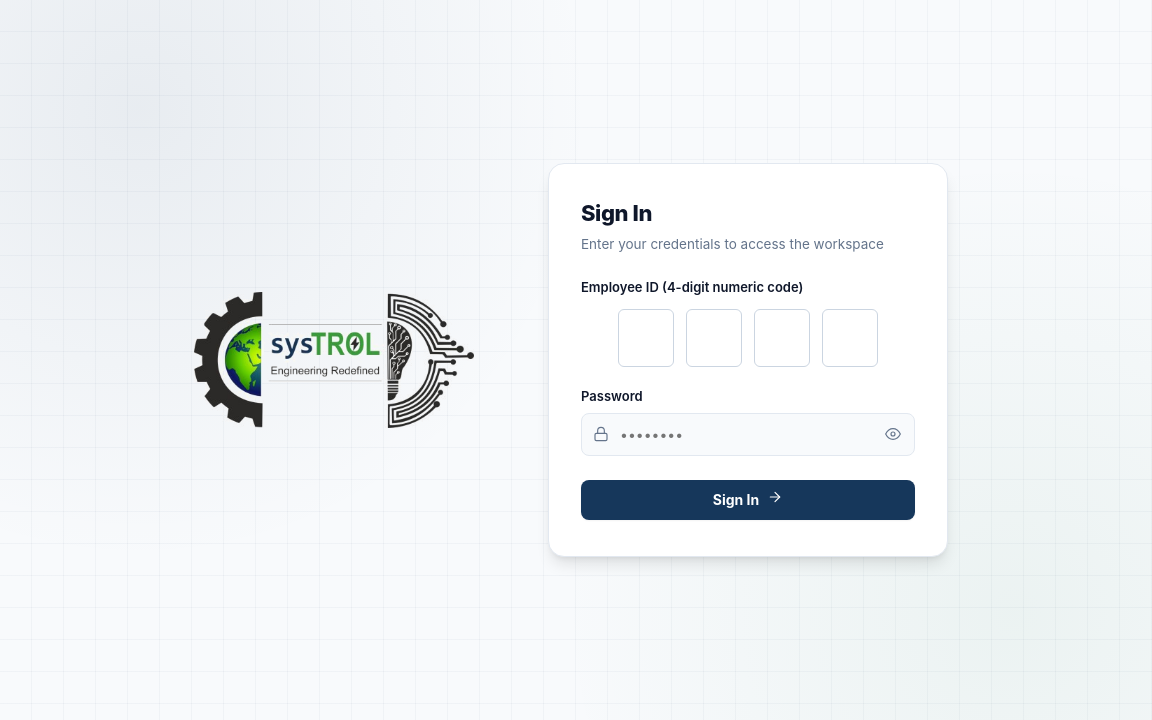
Test: LoginPage › displays generic error banner when credentials are invalid
Type "0" into the field with test id "employee-code-digit-0" at (646, 338), box [618,309,674,367]
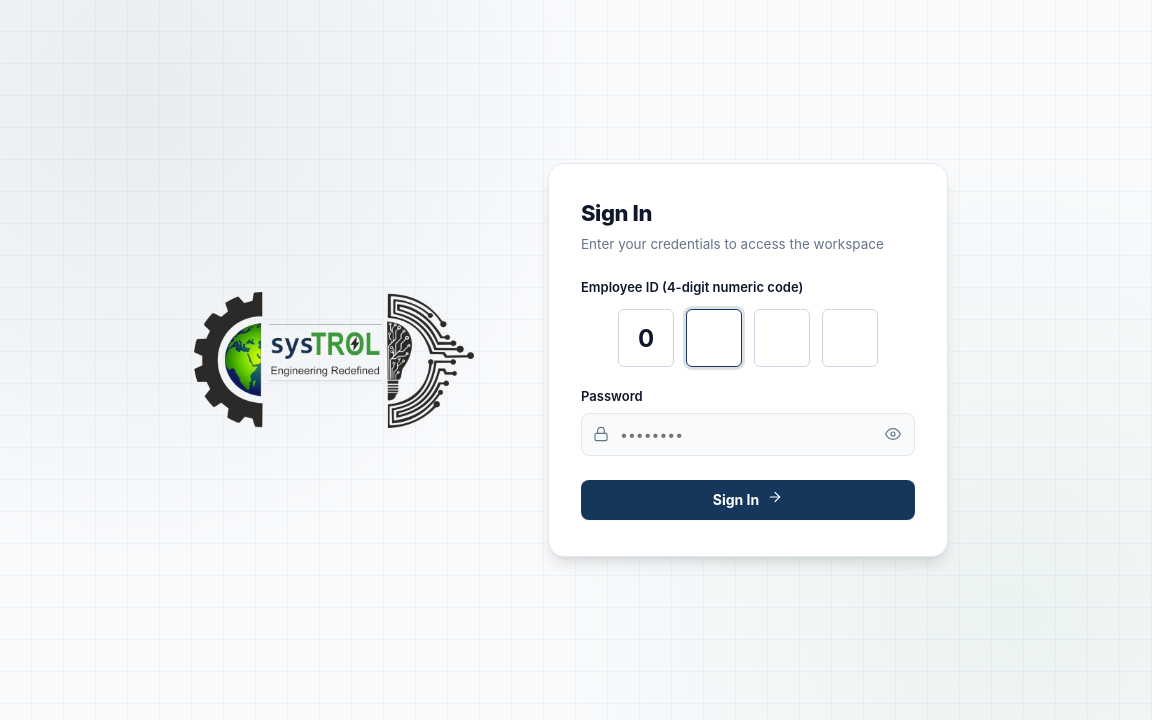
Type "0" into the field named "Digit 2" at (714, 338), box [686,309,742,367]
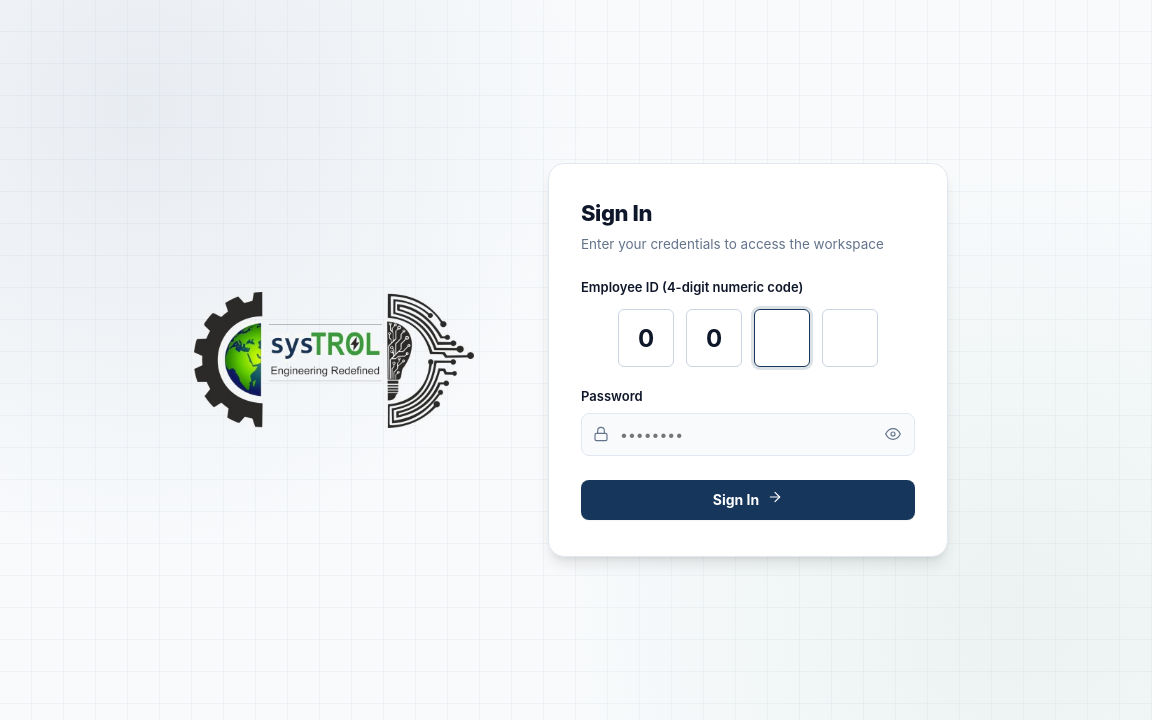
Type "0" into the field named "Digit 3" at (782, 338), box [754,309,810,367]
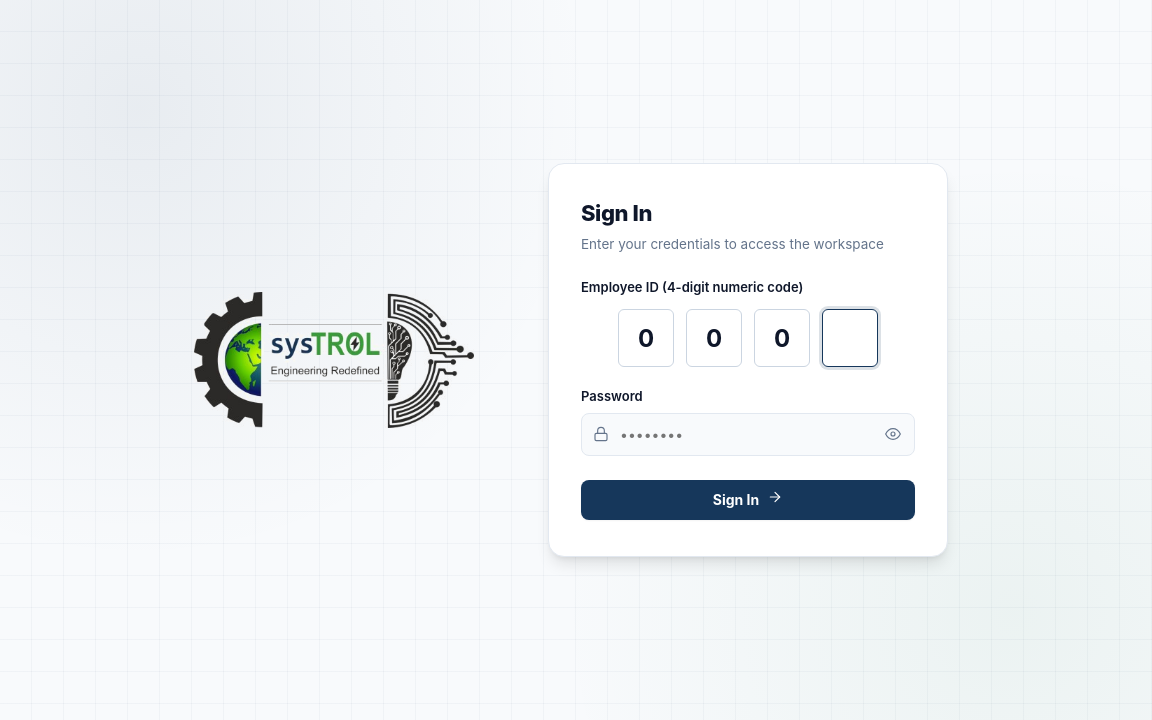
Type "1" into the field named "Digit 4" at (850, 338), box [822,309,878,367]
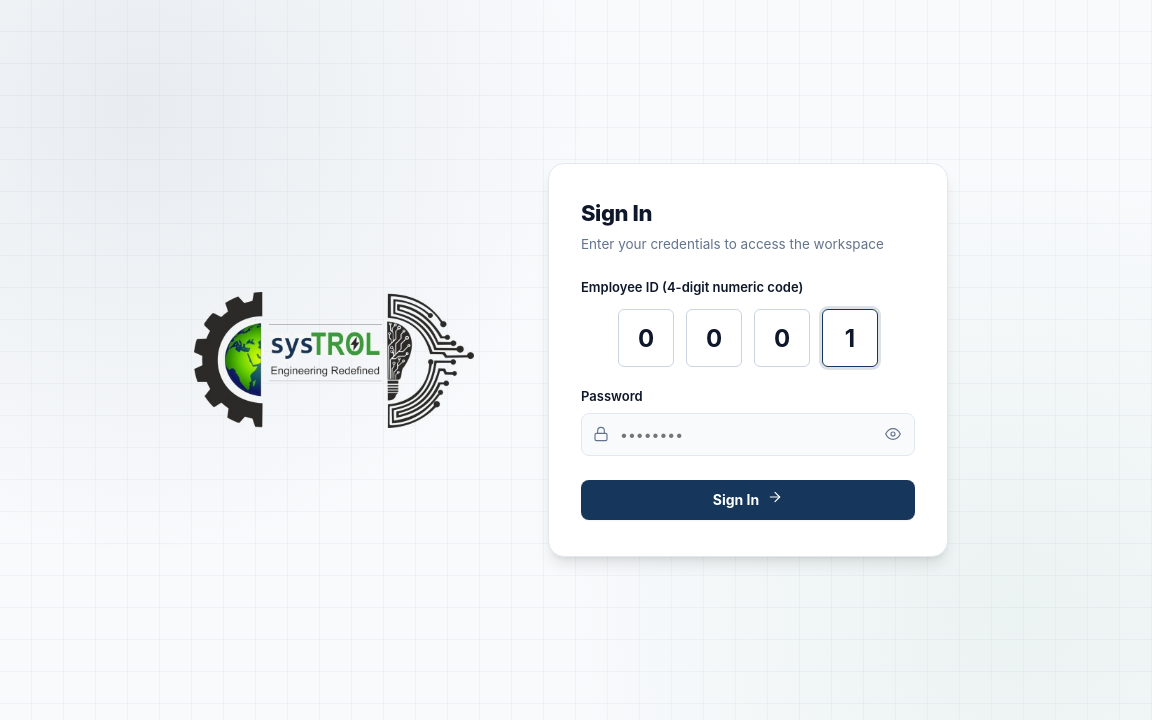
Type "badpass" into the password field labelled "Password" at (748, 434), box [581,413,915,456]
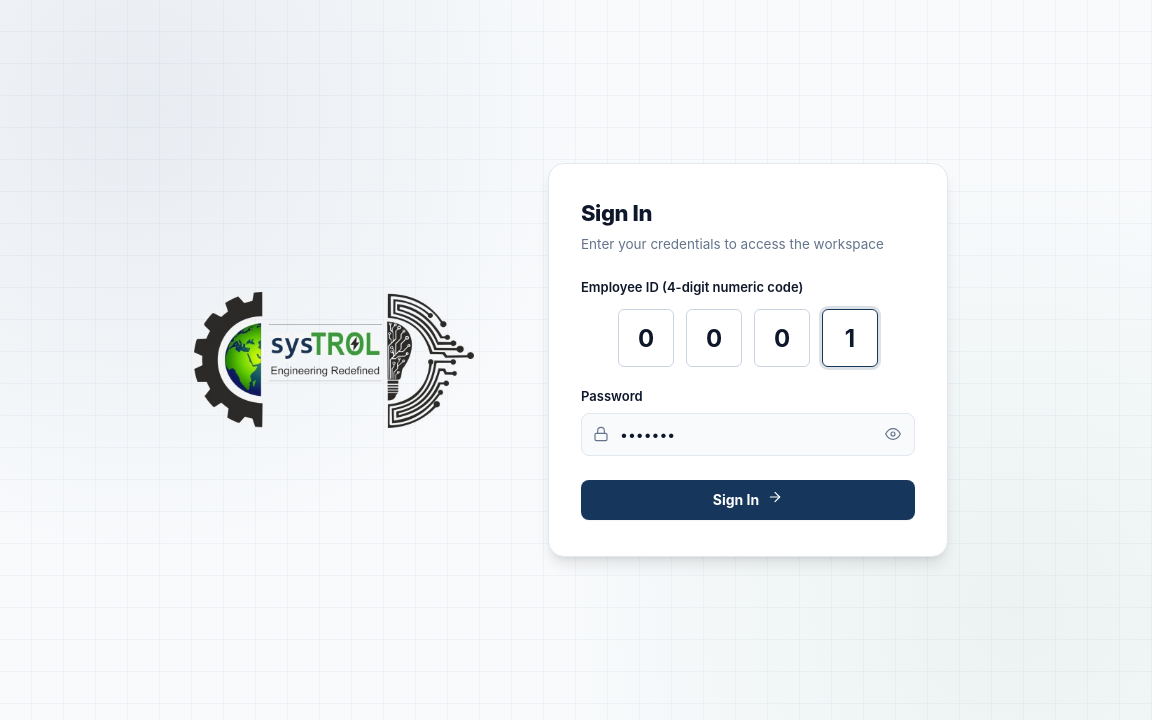
Click the button "Sign In" at (748, 500), box [581,480,915,520]
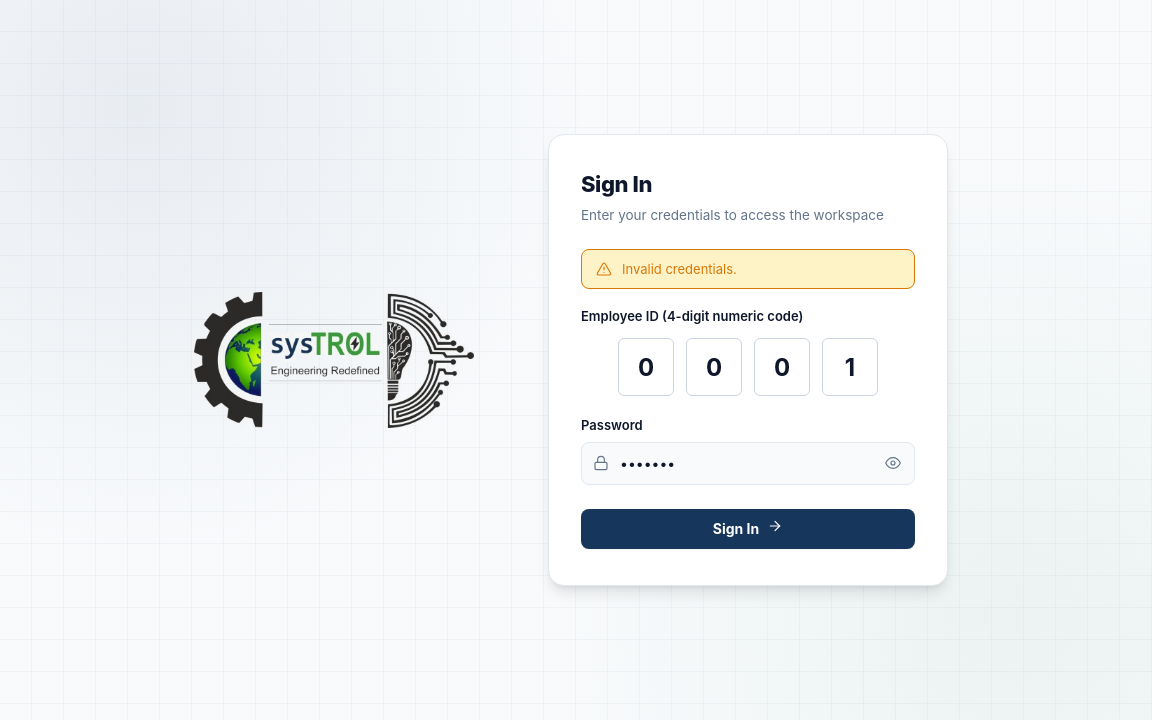
Check: the message "Invalid credentials." is shown, box [581,249,915,289]
Check: the text "Invalid credentials." is shown, box [622,260,737,278]
